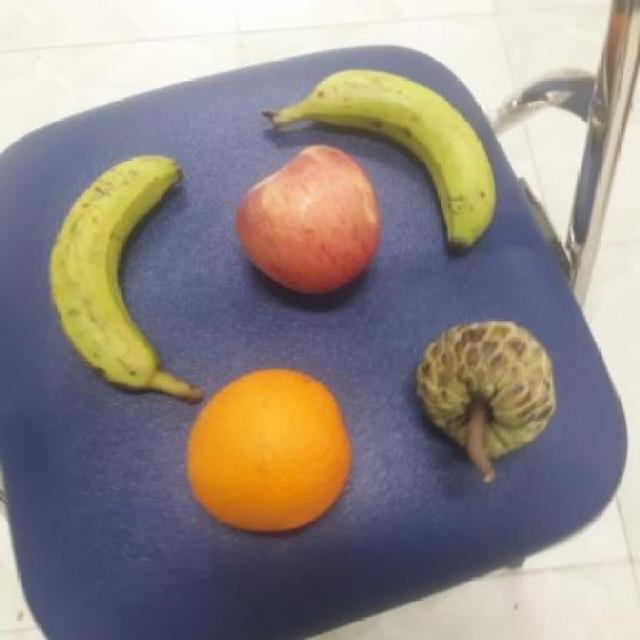apple: (228, 142, 388, 304)
banana: (270, 59, 502, 252), (38, 144, 187, 399)
oren: (186, 362, 352, 540)
sugar apple: (408, 313, 562, 465)
